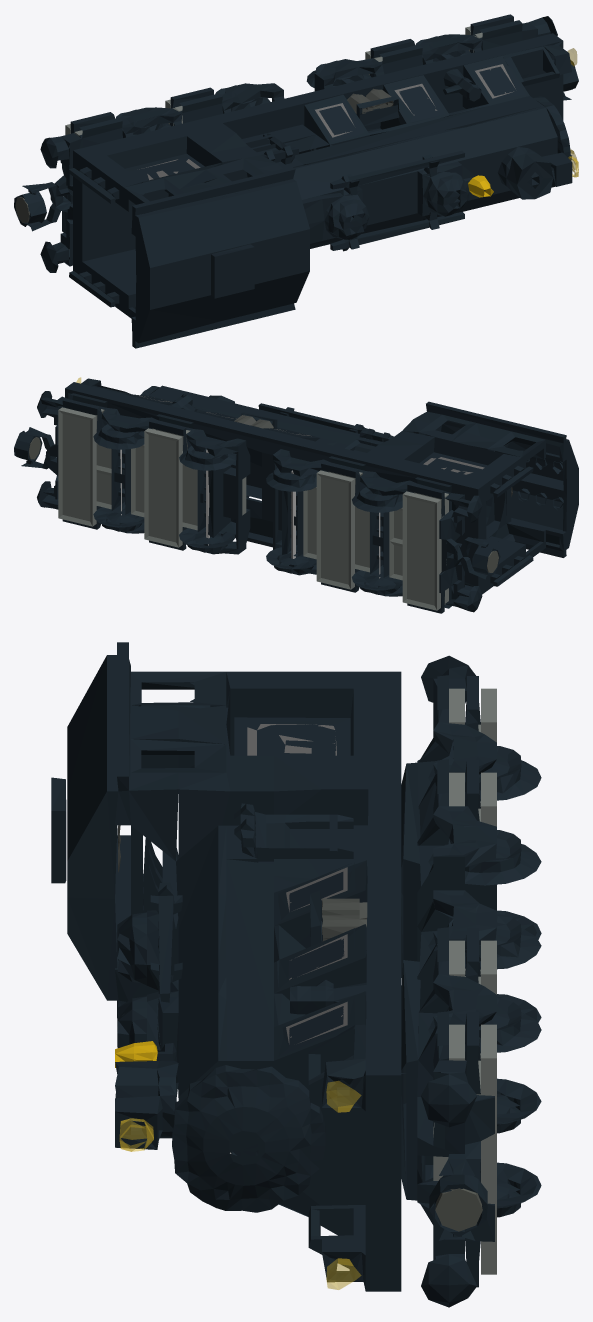
The model's file is locomotive.glb.
3 renders of one model, top to bottom at view 1: azimuth 30°, elevation 25°; view 2: azimuth 150°, elevation 25°; view 3: azimuth 270°, elevation 25°, orthographic. The views are drawn at different scales.
Bounding box in the file's own units: 219 × 54.02 × 98.6.
